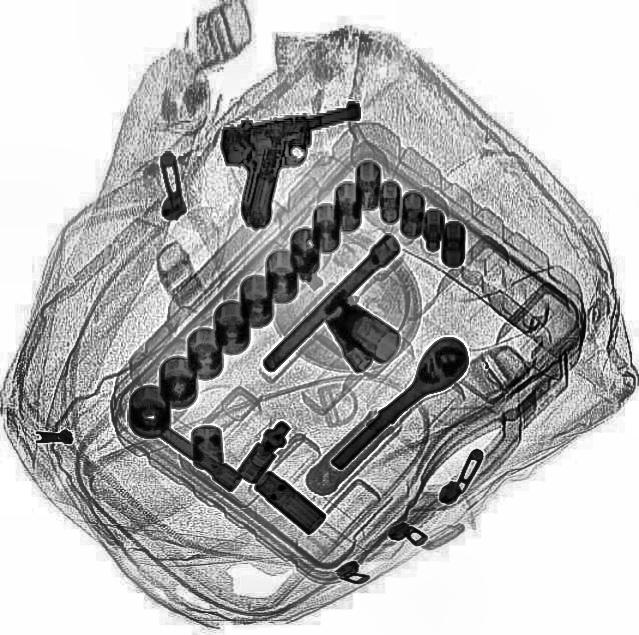Gun: (212, 90, 386, 230)
